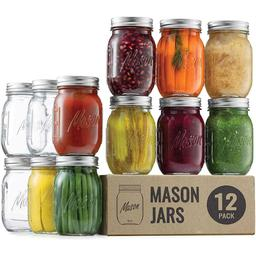glass: (152, 8, 211, 97), (97, 9, 157, 96), (101, 93, 162, 176), (50, 153, 108, 237), (156, 91, 208, 176), (201, 17, 253, 100), (205, 95, 256, 175), (52, 74, 101, 155), (26, 150, 59, 234), (0, 156, 36, 228)
